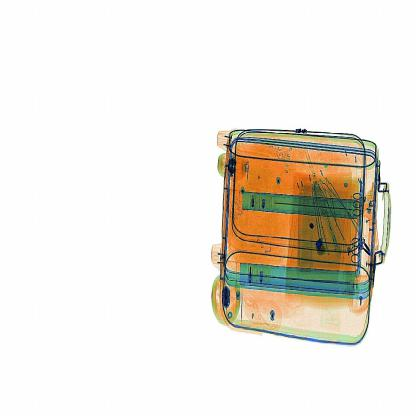wrench: (311, 232, 332, 259)
